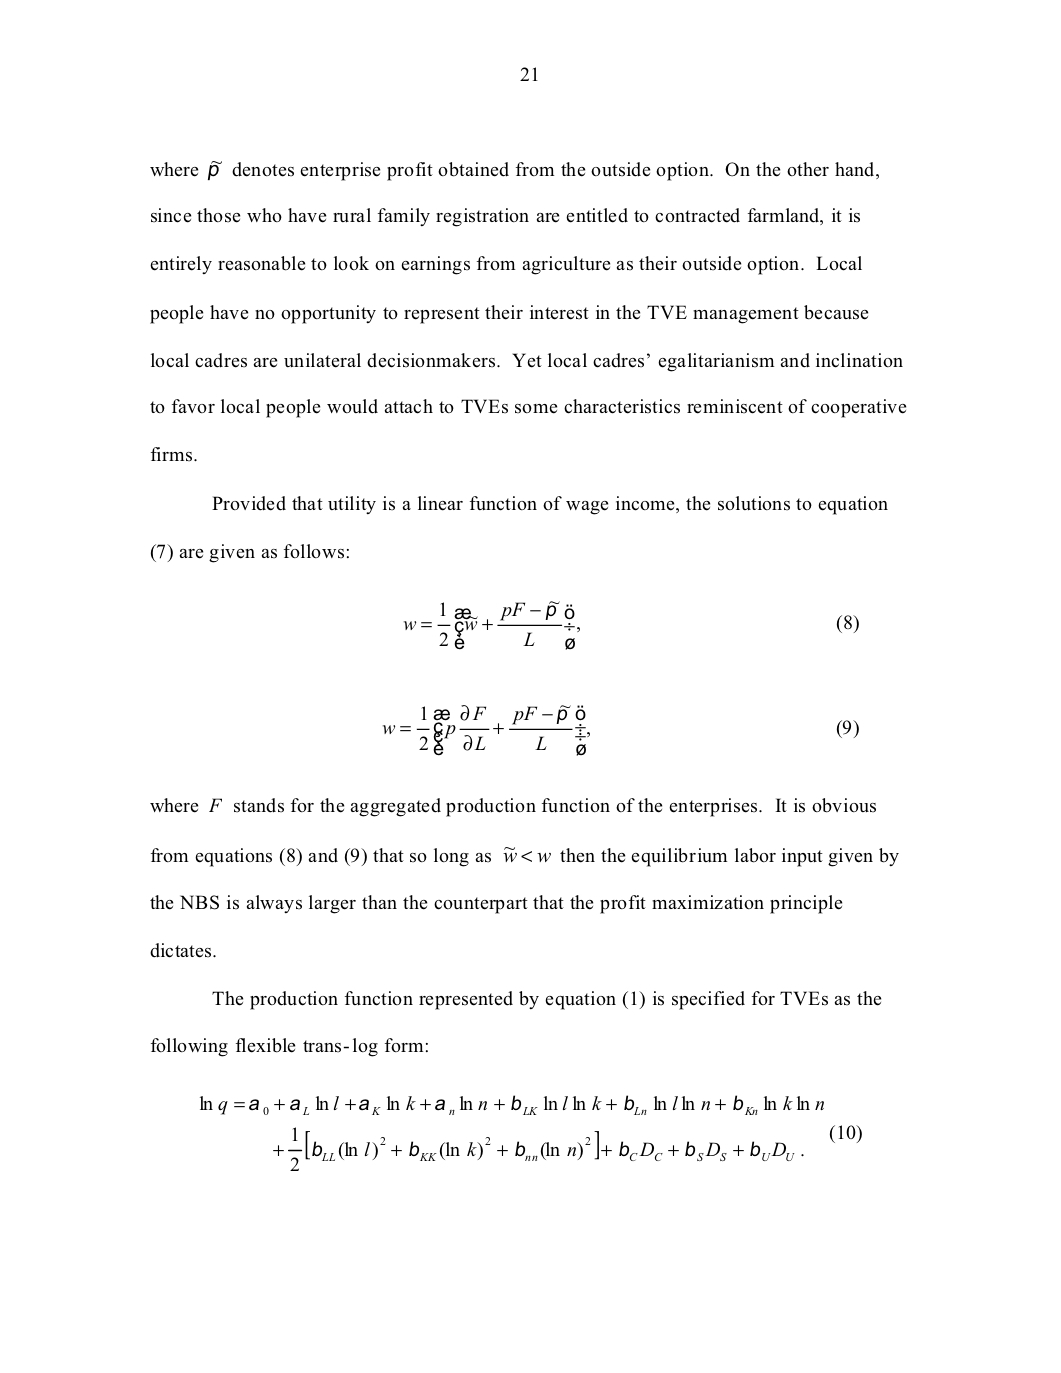formula: (273, 1124, 862, 1171), (382, 704, 858, 756), (403, 600, 858, 650), (199, 1094, 822, 1114)
